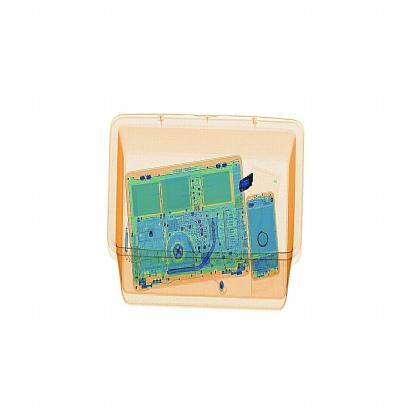knife: (234, 172, 256, 194)
